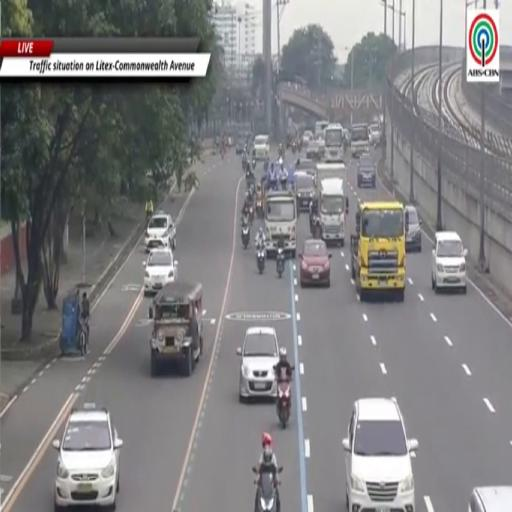car: (343, 397, 417, 511), (53, 404, 122, 510), (237, 327, 278, 402), (432, 232, 467, 294), (144, 248, 178, 296), (299, 239, 332, 286), (145, 212, 176, 252), (468, 486, 511, 511), (295, 171, 315, 211), (405, 205, 422, 252), (357, 155, 376, 188), (253, 135, 269, 161), (297, 158, 316, 178), (306, 139, 319, 161), (369, 123, 380, 145), (236, 135, 247, 154), (303, 131, 313, 148)
jeepney: (149, 282, 203, 376)
motorcycle: (276, 367, 294, 429), (255, 472, 277, 511), (276, 248, 285, 278), (256, 247, 266, 274), (242, 224, 250, 249), (312, 216, 321, 238), (256, 199, 263, 219), (249, 205, 254, 226), (280, 179, 288, 191), (242, 156, 247, 170), (292, 141, 297, 154), (279, 146, 284, 157), (252, 158, 256, 170)
truck: (351, 202, 408, 301), (265, 190, 297, 258), (318, 176, 348, 246), (324, 124, 344, 162), (316, 163, 346, 183), (351, 124, 369, 157), (315, 121, 329, 139)
